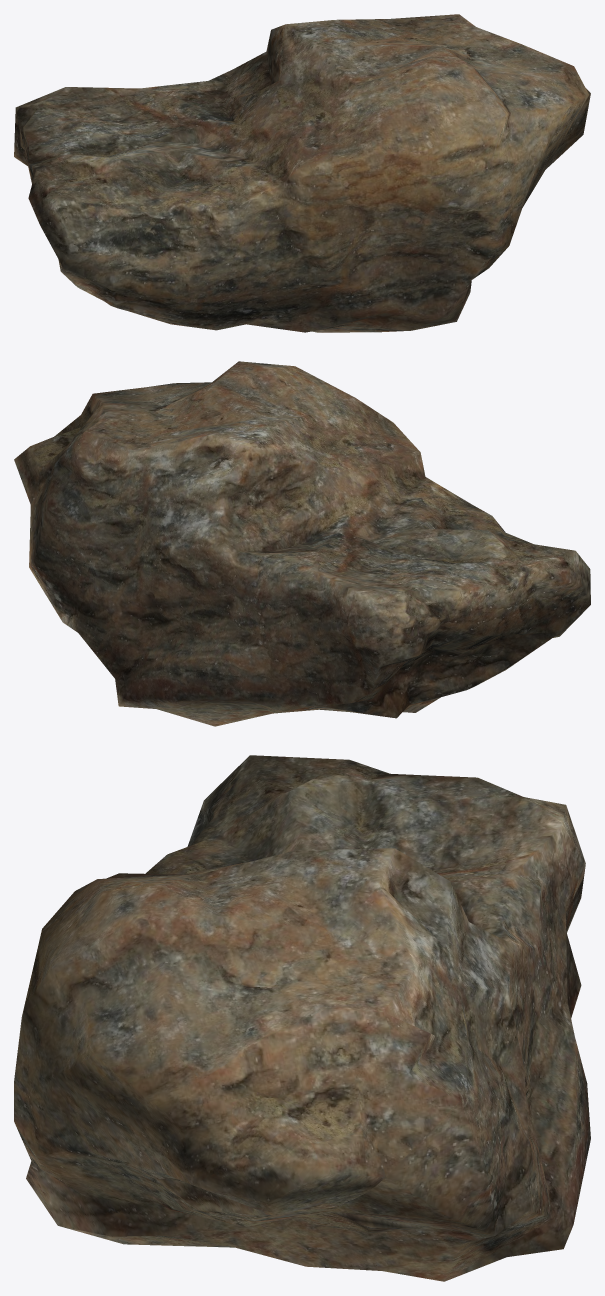
The model's file is Roca.fbx.
3 views of the same model, one above another, from view 1: azimuth 30°, elevation 25°; view 2: azimuth 150°, elevation 25°; view 3: azimuth 270°, elevation 25° (orthographic). The views are drawn at different scales.
Parts seen in each view (by area): view 1: Roca; view 2: Roca; view 3: Roca.
Boxes of the visible parts, x1,y1,x2,y2 form: Roca: (14, 14, 590, 332); Roca: (14, 361, 590, 726); Roca: (14, 755, 590, 1281).
Bounding box in the file's own units: 36.97 × 17.04 × 22.79.
1 material, 1 textured.
